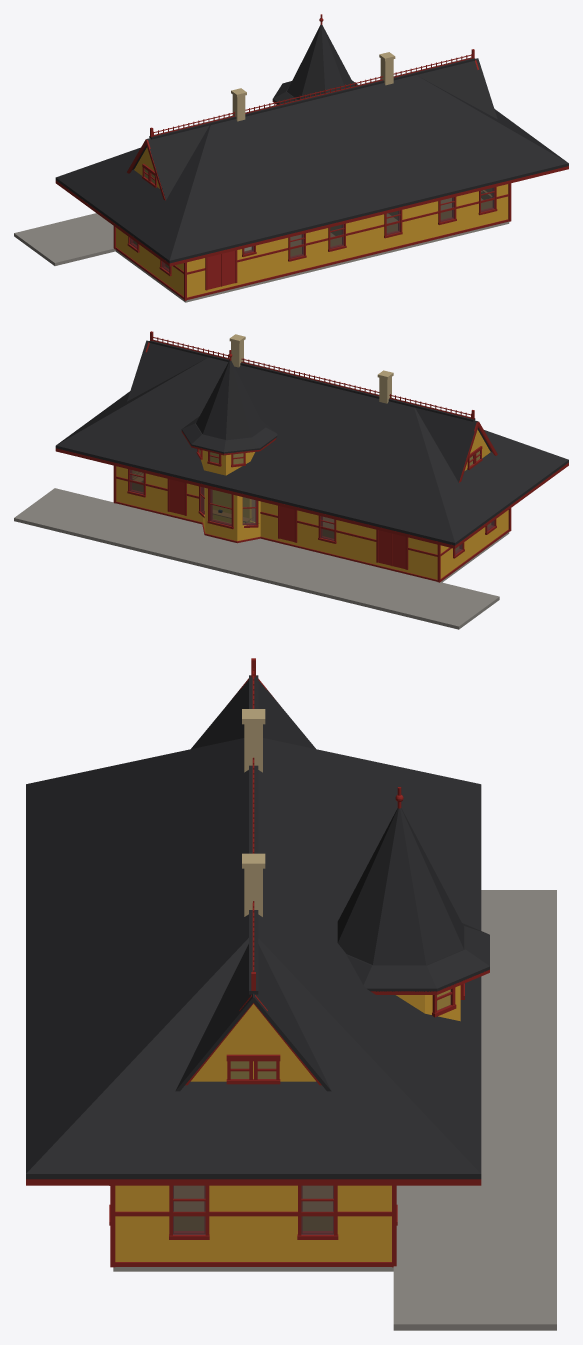
File: Viroqua_Depot.glb
3 views of the same model, one above another, from view 1: azimuth 30°, elevation 25°; view 2: azimuth 150°, elevation 25°; view 3: azimuth 270°, elevation 25° (orthographic). The views are drawn at different scales.
Parts seen in each view (by area): view 1: roof, walls, trim, platform, sash, glass, foundation, doors, chimney, oak; view 2: roof, platform, walls, trim, sash, glass, doors, chimney, oak; view 3: roof, platform, walls, trim, sash, glass, chimney, floor, foundation, oak.
Boxes of the visible parts, left/top/right/bottom form: roof: left=55, top=25, right=568, bottom=263; walls: left=116, top=147, right=508, bottom=297; trim: left=55, top=14, right=568, bottom=300; platform: left=14, top=213, right=115, bottom=265; sash: left=127, top=163, right=497, bottom=276; glass: left=130, top=169, right=494, bottom=271; foundation: left=115, top=221, right=509, bottom=302; doors: left=207, top=250, right=235, bottom=289; chimney: left=231, top=52, right=395, bottom=121; oak: left=133, top=188, right=492, bottom=268; roof: left=55, top=340, right=568, bottom=545; platform: left=14, top=488, right=499, bottom=629; walls: left=116, top=429, right=508, bottom=579; trim: left=55, top=331, right=568, bottom=582; sash: left=127, top=446, right=496, bottom=558; glass: left=130, top=449, right=494, bottom=554; doors: left=169, top=479, right=405, bottom=569; chimney: left=229, top=334, right=393, bottom=403; oak: left=132, top=470, right=491, bottom=551; roof: left=26, top=675, right=489, bottom=1179; platform: left=393, top=890, right=556, bottom=1330; walls: left=115, top=985, right=460, bottom=1261; trim: left=26, top=658, right=489, bottom=1267; sash: left=109, top=983, right=464, bottom=1239; glass: left=173, top=989, right=450, bottom=1234; chimney: left=242, top=709, right=265, bottom=916; floor: left=174, top=1185, right=332, bottom=1211; foundation: left=113, top=1267, right=393, bottom=1271; oak: left=174, top=1216, right=332, bottom=1230.
Size of the model in its own units: 0.9249 by 0.3679 by 0.4782.
